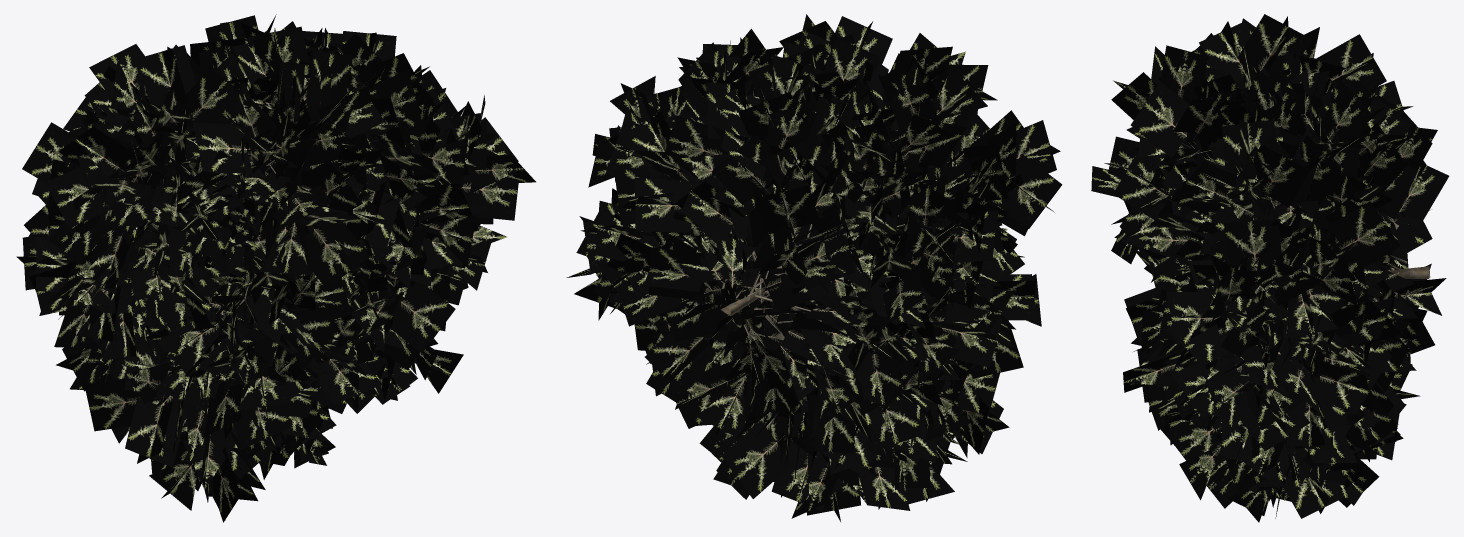
3 views of the same model, side by side, from view 1: azimuth 30°, elevation 25°; view 2: azimuth 150°, elevation 25°; view 3: azimuth 270°, elevation 25° (orthographic).
Parts seen in each view (by area): view 1: OC29_4; view 2: OC29_4; view 3: OC29_4.
Boxes of the visible parts, x1,y1,x2,y2 form: OC29_4: [16, 14, 535, 522]; OC29_4: [566, 14, 1062, 521]; OC29_4: [1091, 14, 1449, 522].
Size of the model in its own units: 2.71 by 2.6 by 1.83.
Materials: 4 (4 with a texture image).
